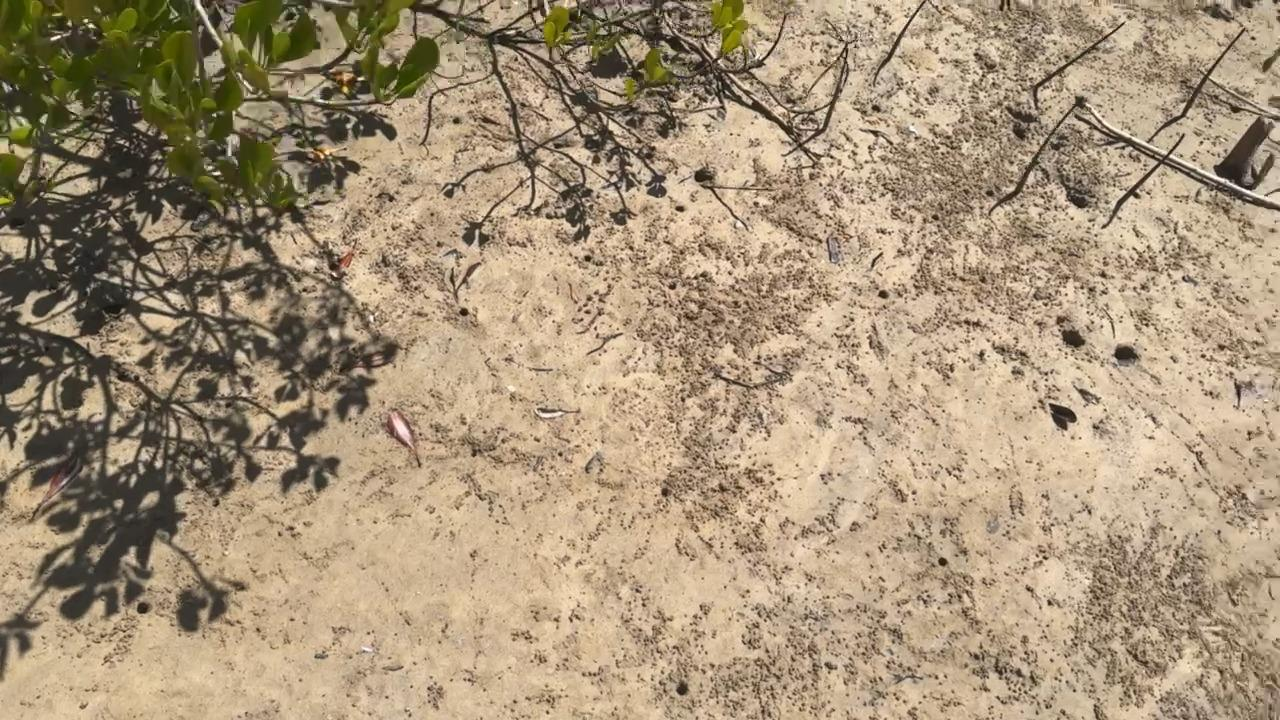Tree: (1033, 20, 1127, 92), (1013, 100, 1080, 197), (1112, 132, 1186, 215), (1181, 27, 1246, 118), (821, 47, 851, 131), (887, 0, 927, 63)
